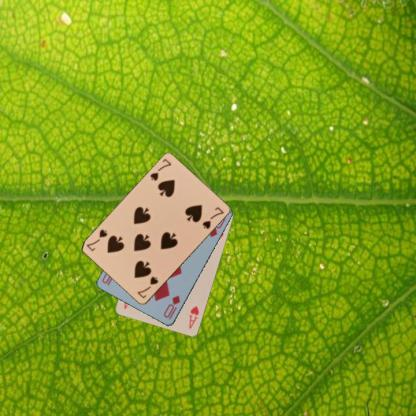10d: (160, 293, 182, 321)
7s: (147, 156, 173, 183), (134, 274, 160, 300)
Ah: (186, 303, 201, 330)
